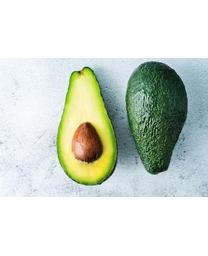avocado: (56, 66, 119, 186), (125, 62, 189, 175)
